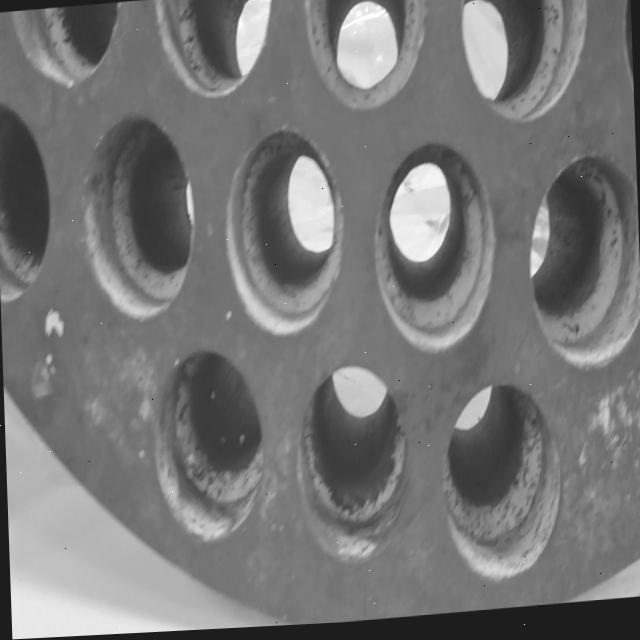Hole: (368, 138, 497, 360), (220, 123, 346, 343), (77, 106, 196, 326), (524, 153, 640, 378), (439, 382, 564, 589), (292, 359, 409, 570), (150, 344, 267, 546), (456, 0, 591, 131), (301, 0, 428, 119), (152, 0, 276, 104), (0, 92, 53, 302)
